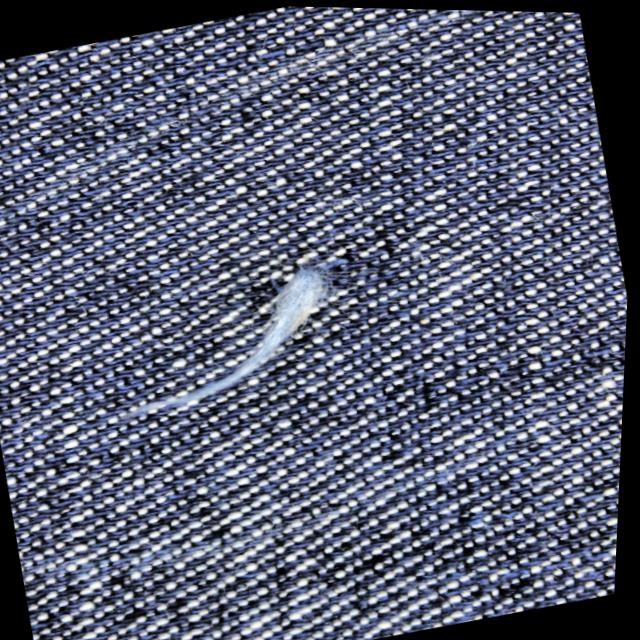Hole: (60, 222, 394, 468)
